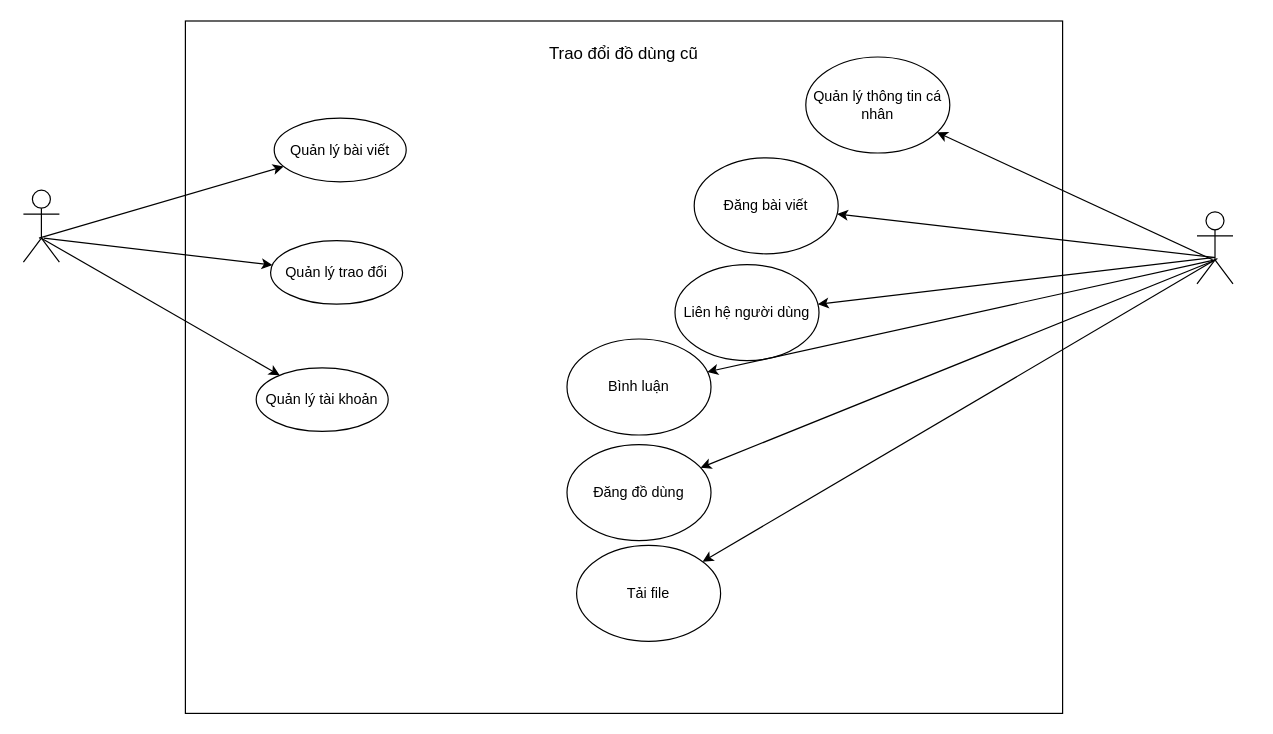
The diagram is 1273 pixels wide and 734 high, and some of its shapes have lost their labels. Here are the shapes that lost their labels. From the top down, the box of each, then its label:
(22, 189, 59, 262): Admin
(1196, 211, 1233, 284): Người dùng
